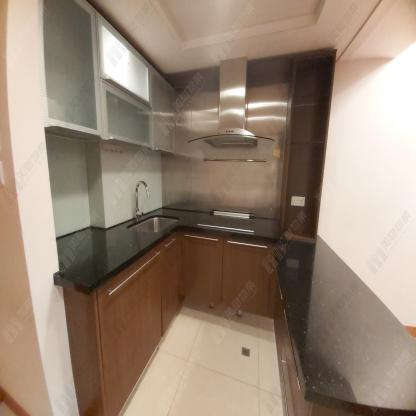Cupboard: (93, 226, 279, 415), (39, 1, 178, 154)
Exhaust Hood: (188, 56, 275, 151)
Sink: (127, 212, 182, 235)
Stove: (196, 208, 254, 232)
